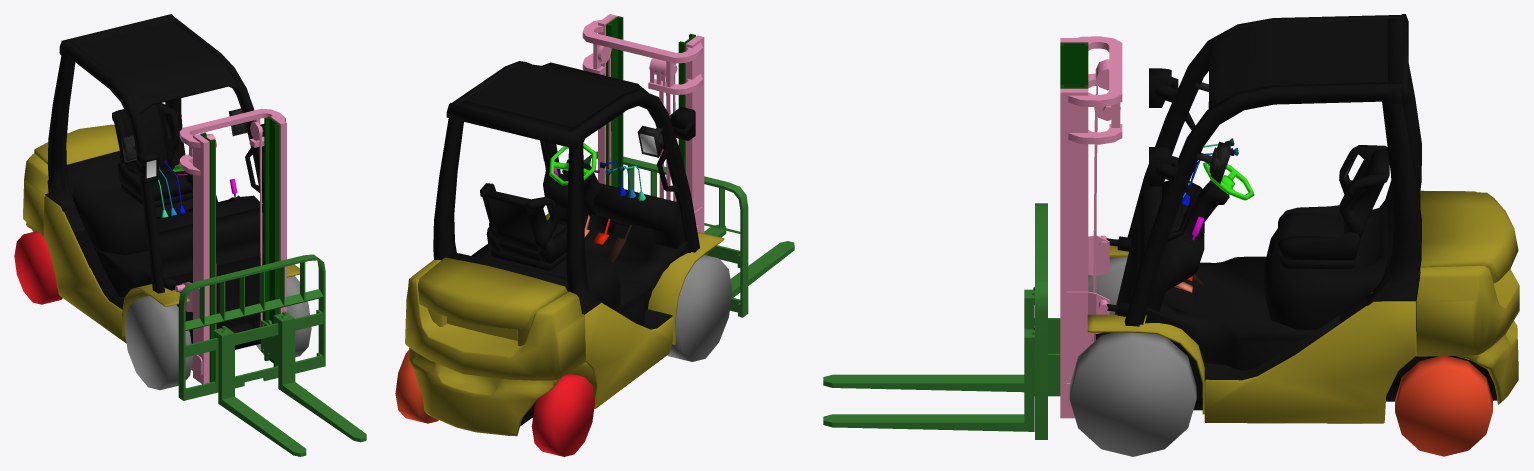
File: ForkLift Final.fbx
3 views of the same model, side by side, from view 1: azimuth 30°, elevation 25°; view 2: azimuth 150°, elevation 25°; view 3: azimuth 270°, elevation 25° (orthographic). The views are drawn at different scales.
Parts seen in each view (by area): view 1: Fork, Horquilla, HorquillaCuerda, Ruedas Delanteras, MaxSteelHorquilla, RuedaT2; view 2: Fork, HorquillaCuerda, Ruedas Delanteras, Horquilla, RuedaT2, MaxSteelHorquilla, RuedaT1, Espejo1, Volante; view 3: Fork, Ruedas Delanteras, HorquillaCuerda, Horquilla, RuedaT1, MaxSteelHorquilla, Espejo2, Volante.
Part boxes in pixels (x1=…): Fork: x1=23, y1=14, x2=299, y2=349; Horquilla: x1=178, y1=254, x2=366, y2=456; HorquillaCuerda: x1=175, y1=108, x2=286, y2=384; Ruedas Delanteras: x1=124, y1=275, x2=311, y2=390; MaxSteelHorquilla: x1=200, y1=117, x2=279, y2=382; RuedaT2: x1=14, y1=231, x2=62, y2=304; Fork: x1=405, y1=61, x2=724, y2=436; HorquillaCuerda: x1=582, y1=14, x2=704, y2=233; Ruedas Delanteras: x1=667, y1=255, x2=732, y2=361; Horquilla: x1=583, y1=151, x2=794, y2=317; RuedaT2: x1=531, y1=373, x2=594, y2=456; MaxSteelHorquilla: x1=606, y1=16, x2=695, y2=187; RuedaT1: x1=395, y1=350, x2=438, y2=423; Espejo1: x1=637, y1=125, x2=663, y2=157; Volante: x1=549, y1=143, x2=596, y2=185; Fork: x1=1087, y1=14, x2=1519, y2=423; Ruedas Delanteras: x1=1069, y1=257, x2=1196, y2=456; HorquillaCuerda: x1=1060, y1=36, x2=1122, y2=418; Horquilla: x1=823, y1=203, x2=1060, y2=439; RuedaT1: x1=1395, y1=356, x2=1492, y2=456; MaxSteelHorquilla: x1=1060, y1=42, x2=1088, y2=88; Espejo2: x1=1195, y1=141, x2=1230, y2=183; Volante: x1=1203, y1=162, x2=1254, y2=200.
Bounding box in the file's own units: 118 × 212 × 371.
